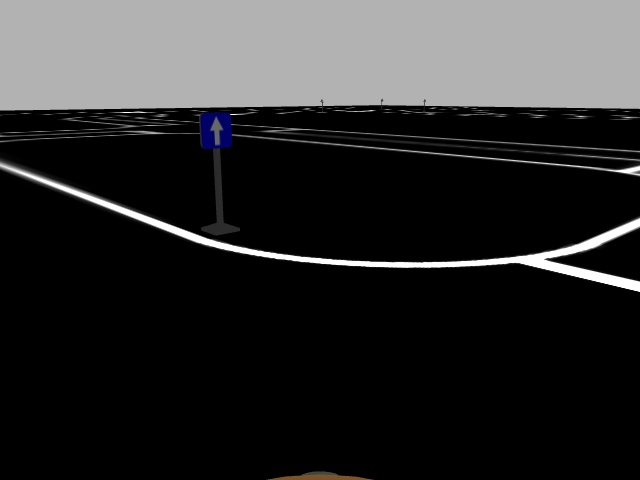oneway: (197, 110, 237, 151)
